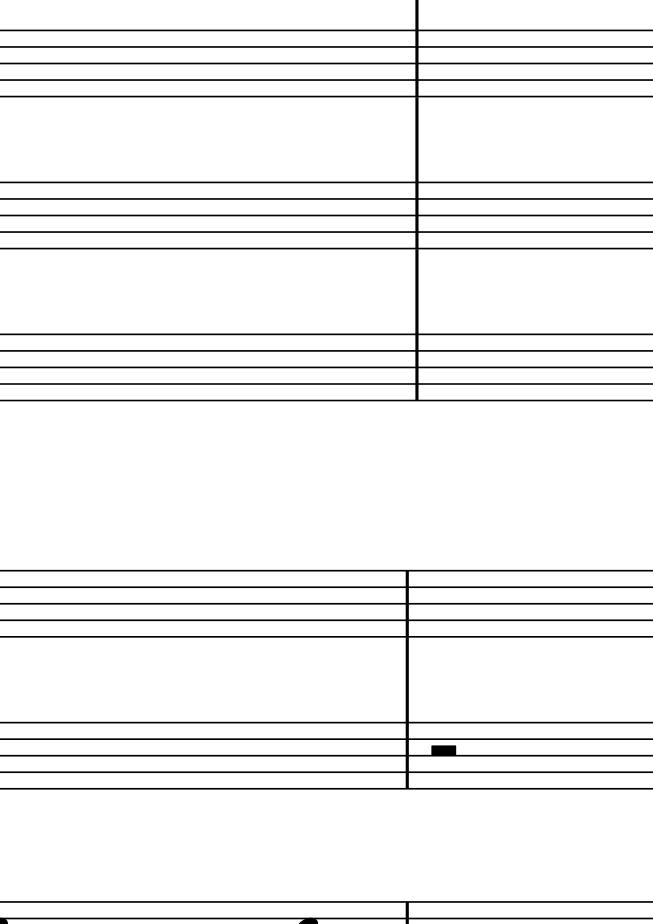Rests2: (425, 742, 460, 761)
Single_barline: (407, 29, 425, 95), (408, 182, 425, 250), (399, 722, 416, 786), (409, 333, 425, 399), (399, 571, 415, 637)
